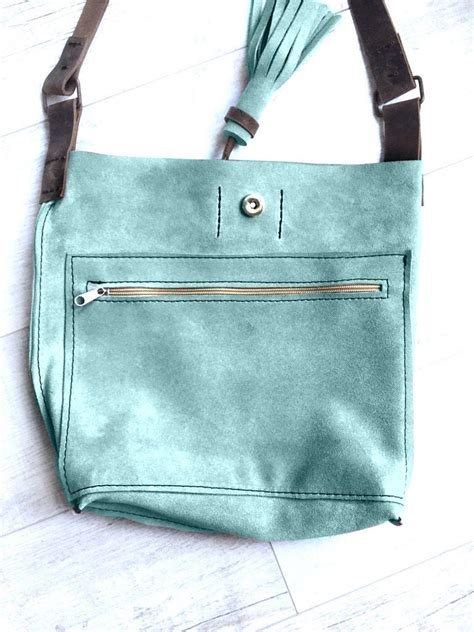gamuza: (32, 1, 422, 539)
